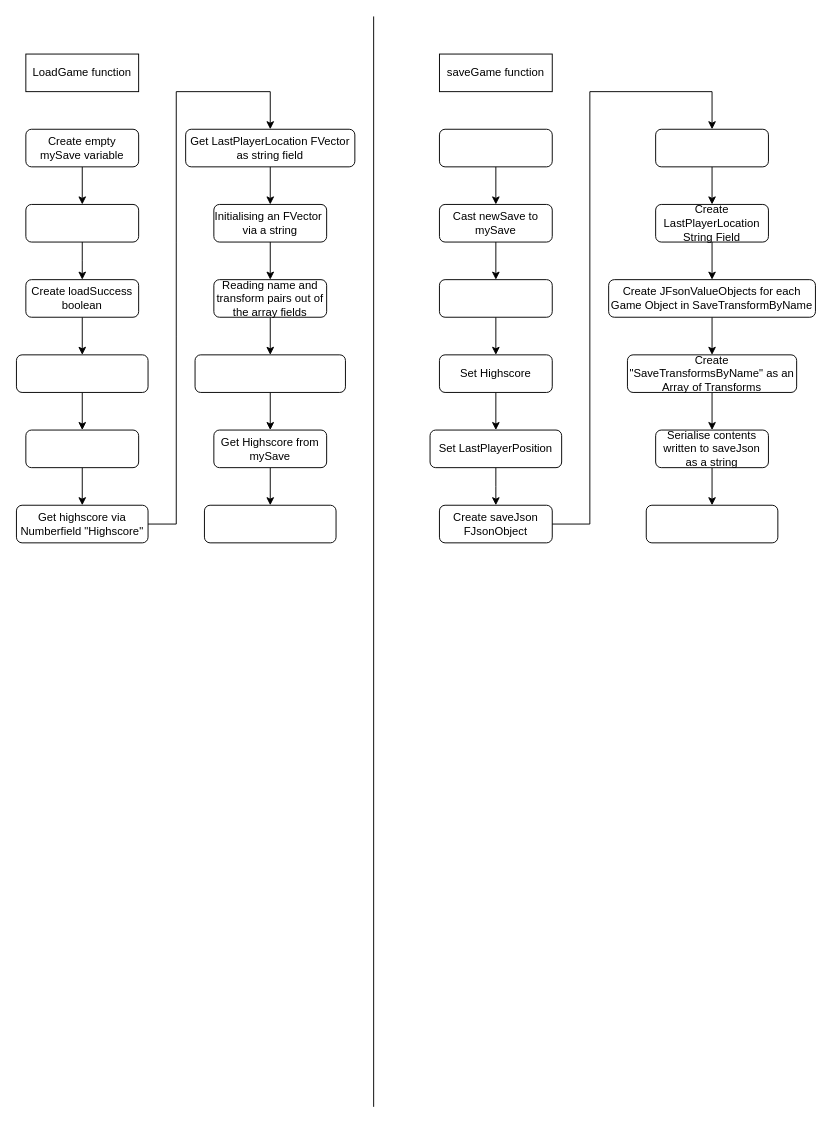
The diagram is 832 pixels wide and 1124 high, and some of its shapes have lost their labels. The shapes that lost their labels are listed below. From the top down, each one's centre as x and y in pixels, then its label:
At [495,147]: "Create newSave variable".
At [711,147]: "Create Highscore Number Field".
At [82,223]: "Create empty loadSave variable".
At [495,298]: "Check validity of mySave".
At [82,373]: "Create saveReader for reading JSON saves".
At [269,373]: "cast loadSave to mySave".
At [82,448]: "Deserialise into JSON object".
At [270,523]: "Get LastPlayerLocation from mySave".
At [711,523]: "Save serialised FString as a file at filepath".
